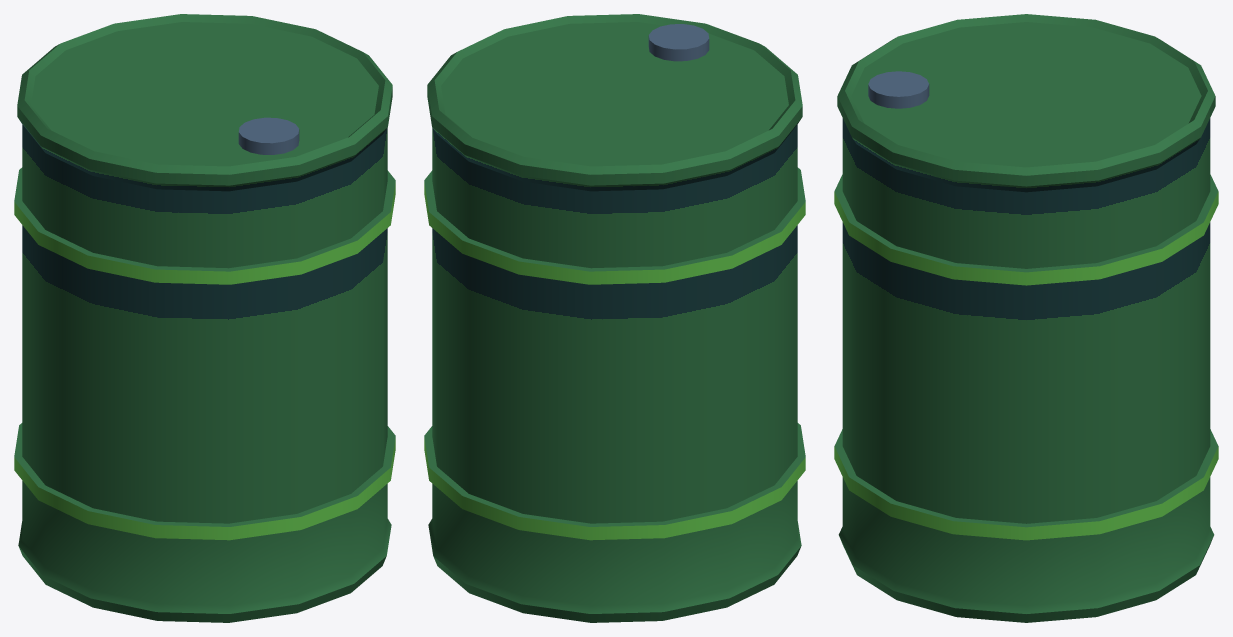
The model's file is Barril_02.fbx.
3 renders of one model, left to right at view 1: azimuth 30°, elevation 25°; view 2: azimuth 150°, elevation 25°; view 3: azimuth 270°, elevation 25°, orthographic.
Visible parts, largest first — view 1: Barril_02; view 2: Barril_02; view 3: Barril_02.
Boxes of the visible parts, x1,y1,x2,y2 form: Barril_02: (14, 14, 395, 622); Barril_02: (424, 14, 805, 622); Barril_02: (834, 14, 1218, 622).
Size of the model in its own units: 153 by 204 by 153.
